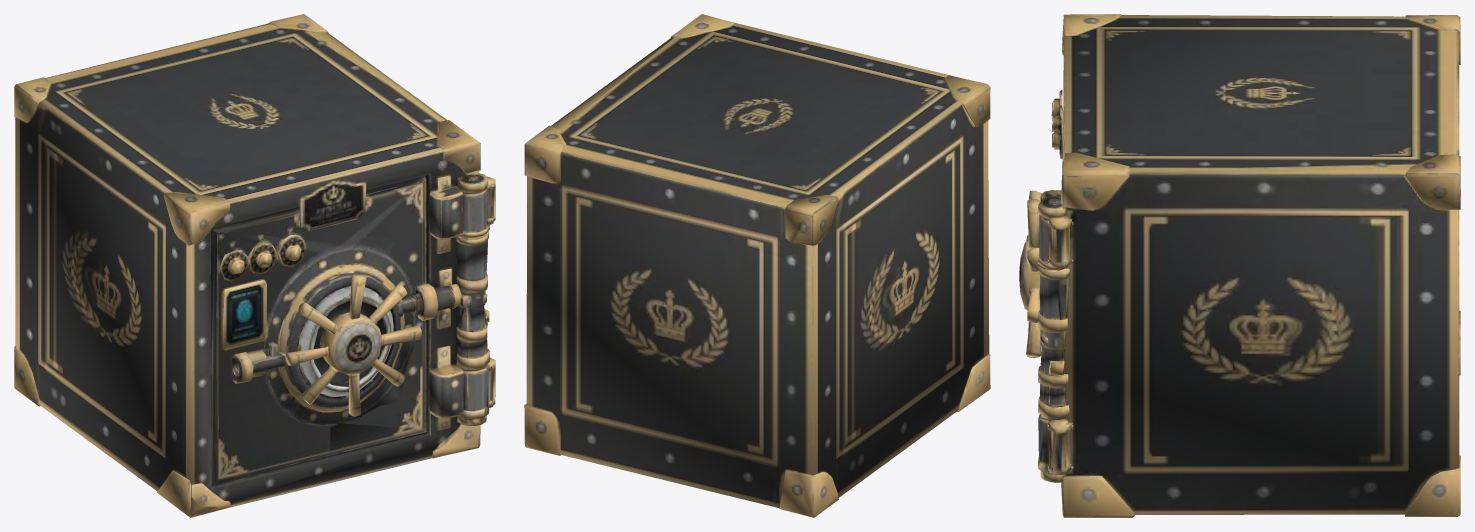
File: safe_tier_5_gold_bank_vault.glb
The picture shows the model from 3 angles, left to right: view 1: azimuth 30°, elevation 25°; view 2: azimuth 150°, elevation 25°; view 3: azimuth 270°, elevation 25°; orthographic projection. The views are drawn at different scales.
Parts seen in each view (by area): view 1: Meshy_AI_safe_tier_5_gold_bank_vault_3d_20261028_texture; view 2: Meshy_AI_safe_tier_5_gold_bank_vault_3d_20261028_texture; view 3: Meshy_AI_safe_tier_5_gold_bank_vault_3d_20261028_texture.
Boxes of the visible parts, box(x1,y1,x2,y2) form: Meshy_AI_safe_tier_5_gold_bank_vault_3d_20261028_texture: box(14, 14, 495, 517); Meshy_AI_safe_tier_5_gold_bank_vault_3d_20261028_texture: box(524, 14, 990, 517); Meshy_AI_safe_tier_5_gold_bank_vault_3d_20261028_texture: box(1019, 14, 1460, 517).
Size of the model in its own units: 2.07 by 2 by 2.31.
Materials: 1 (1 with a texture image).
